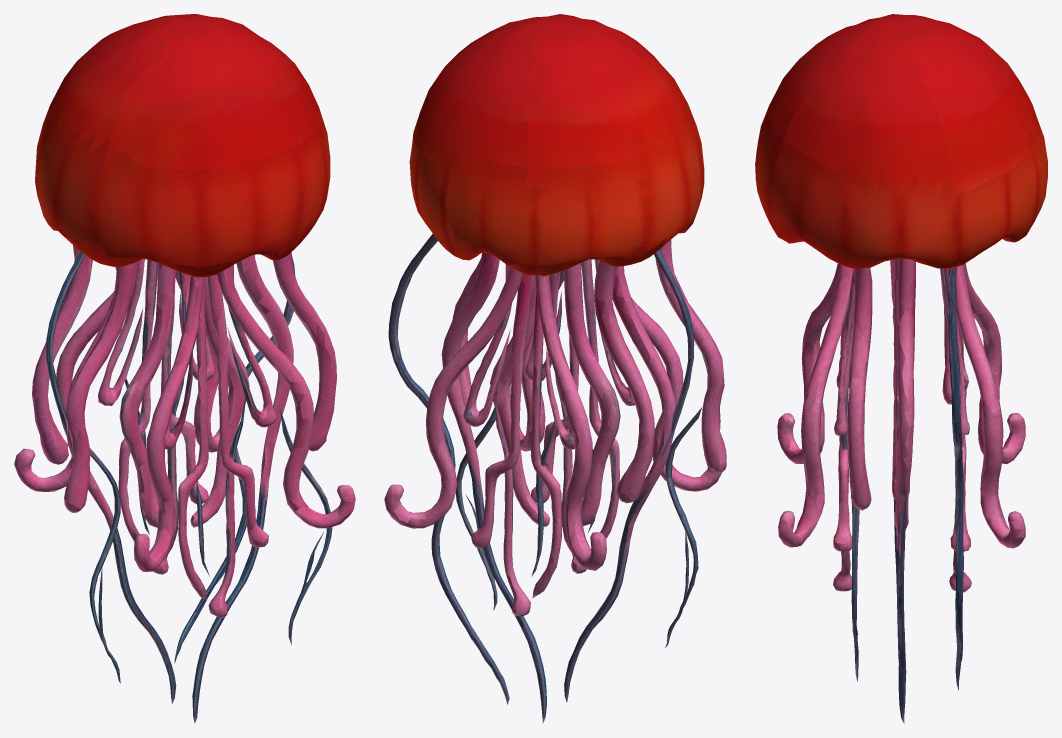
File: jelly.glb
3 views of the same model, side by side, from view 1: azimuth 30°, elevation 25°; view 2: azimuth 150°, elevation 25°; view 3: azimuth 270°, elevation 25° (orthographic).
Parts seen in each view (by area): view 1: mesh_node; view 2: mesh_node; view 3: mesh_node.
Boxes of the visible parts, x1,y1,x2,y2 form: mesh_node: [14, 14, 355, 723]; mesh_node: [384, 14, 726, 723]; mesh_node: [755, 14, 1047, 723].
Size of the model in its own units: 0.4258 by 1 by 0.3857.
Materials: 1 (1 with a texture image).
